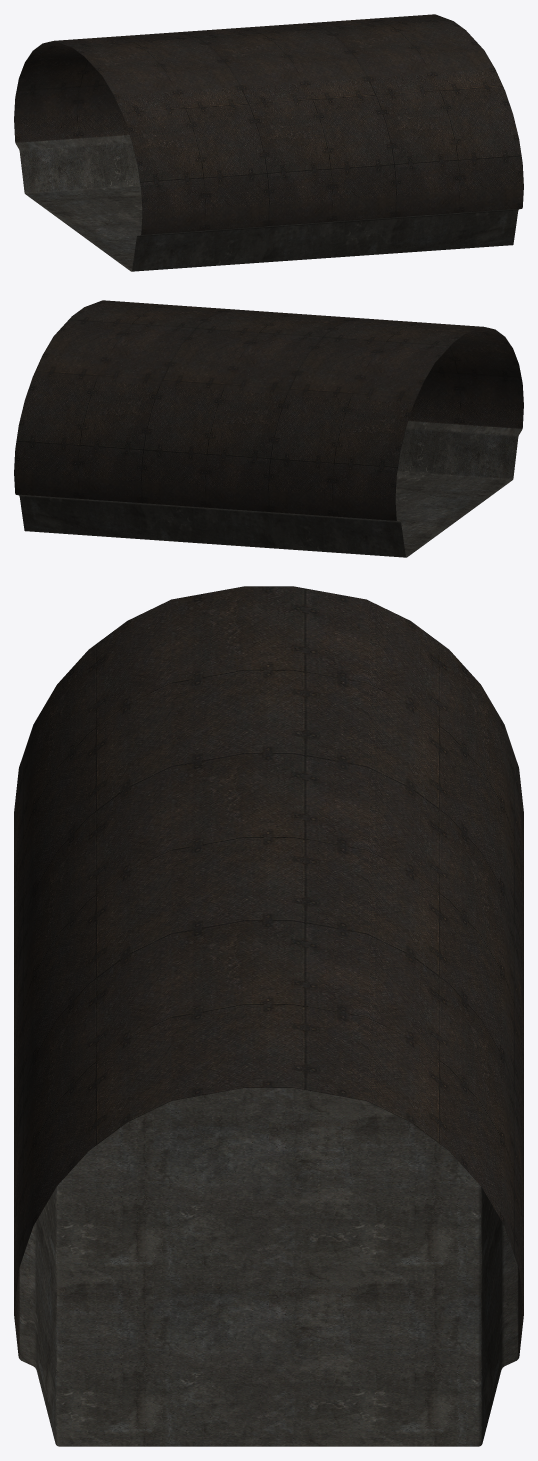
File: tunnel_straight_down_1.dae
3 views of the same model, one above another, from view 1: azimuth 30°, elevation 25°; view 2: azimuth 150°, elevation 25°; view 3: azimuth 270°, elevation 25° (orthographic). The views are drawn at different scales.
Visible parts, largest first — view 1: tunnel_straight_down_1; view 2: tunnel_straight_down_1; view 3: tunnel_straight_down_1.
Part boxes in pixels (x1,y1,x2,y2): tunnel_straight_down_1: (14,14,523,271); tunnel_straight_down_1: (14,300,523,557); tunnel_straight_down_1: (14,586,523,1446).
Bounding box in the file's own units: 6 × 3.5 × 3.72.
Materials: 2 (2 with a texture image).
